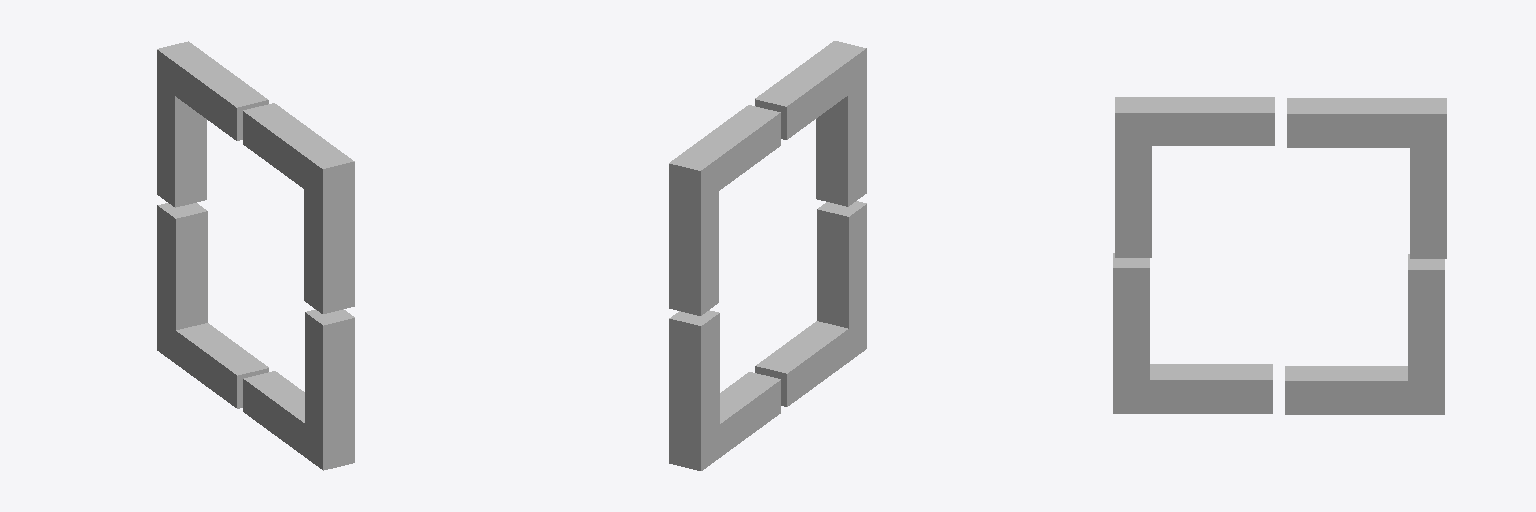
File: 4x4-neon.obj
3 views of the same model, side by side, from view 1: azimuth 30°, elevation 25°; view 2: azimuth 150°, elevation 25°; view 3: azimuth 270°, elevation 25° (orthographic).
Parts seen in each view (by area): view 1: Plane.001, Plane, Plane.003, Plane.002; view 2: Plane.002, Plane.003, Plane, Plane.001; view 3: Plane.002, Plane.001, Plane, Plane.003.
Boxes of the visible parts, x1=… form: Plane.001: x1=243, y1=103, x2=354, y2=313; Plane: x1=243, y1=309, x2=354, y2=470; Plane.003: x1=157, y1=203, x2=268, y2=408; Plane.002: x1=157, y1=41, x2=268, y2=207; Plane.002: x1=669, y1=105, x2=780, y2=315; Plane.003: x1=669, y1=310, x2=780, y2=470; Plane: x1=755, y1=201, x2=866, y2=406; Plane.001: x1=755, y1=41, x2=866, y2=206; Plane.002: x1=1287, y1=98, x2=1446, y2=258; Plane.001: x1=1115, y1=97, x2=1274, y2=257; Plane: x1=1113, y1=253, x2=1272, y2=413; Plane.003: x1=1285, y1=254, x2=1444, y2=414.
Size of the model in its own units: 0.03 by 0.2706 by 0.2706.